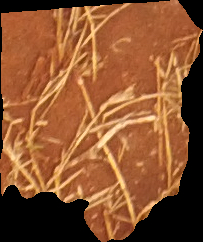soil: (1, 1, 202, 241)
